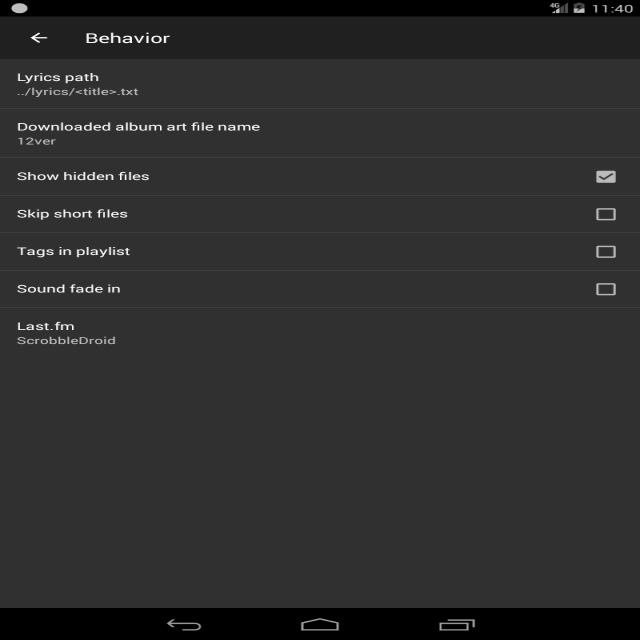CheckBox: (589, 168, 624, 186), (591, 278, 621, 298), (593, 205, 622, 224)
ImageButton: (22, 27, 55, 47)
TextView: (12, 70, 142, 100), (12, 315, 122, 349), (8, 241, 150, 265), (12, 164, 151, 187), (79, 28, 181, 50)
